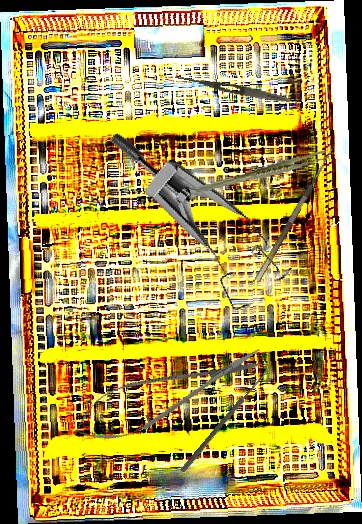Dressing Forceps: (174, 72, 291, 106)
Hook Surgical: (247, 138, 339, 282)
Micro Scissor: (64, 332, 272, 456)
Speculum: (68, 131, 311, 324)
Surgical Spoon: (180, 364, 273, 474)
Tissue Forceps: (193, 149, 332, 195)
